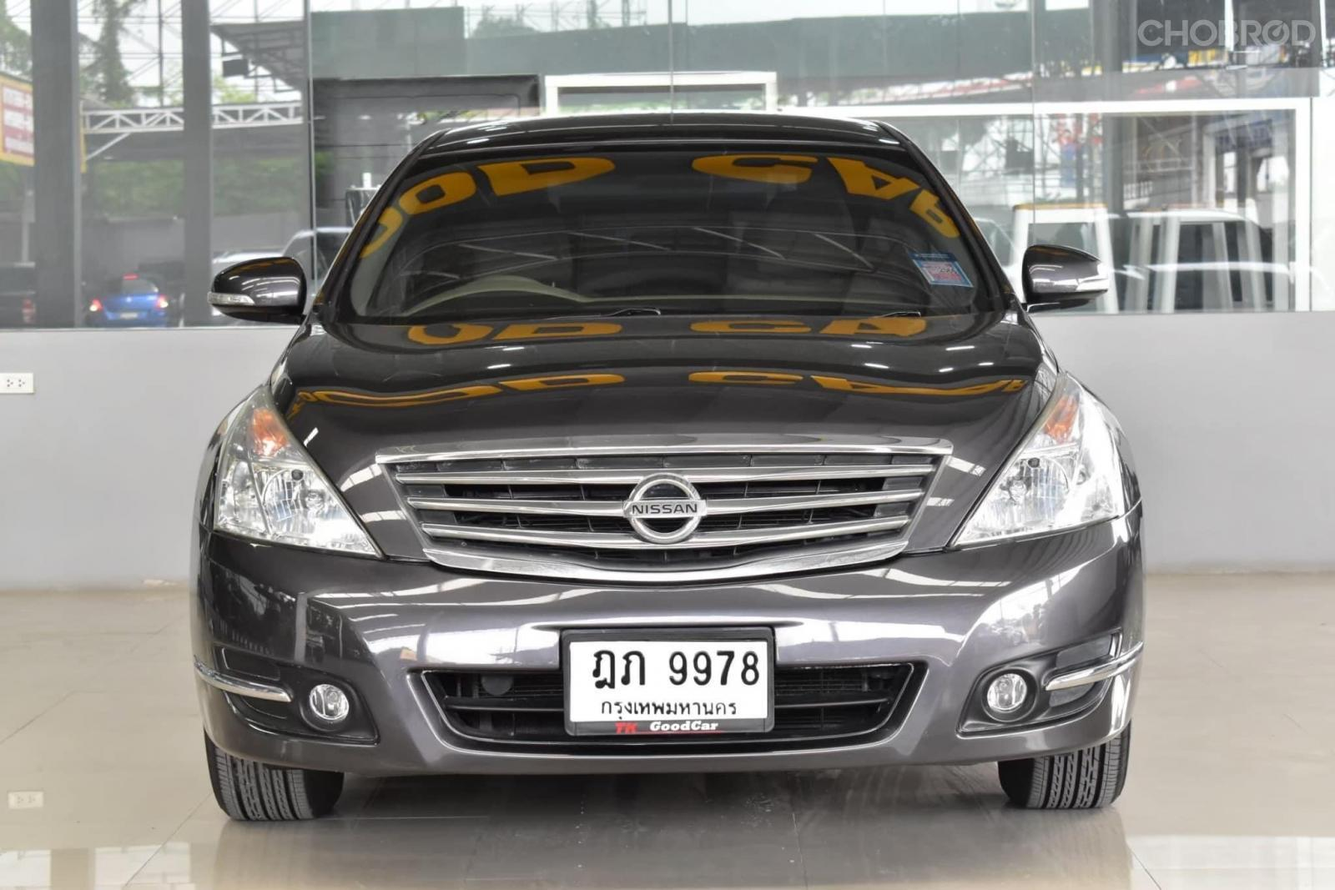license-plate: (552, 609, 786, 754)
